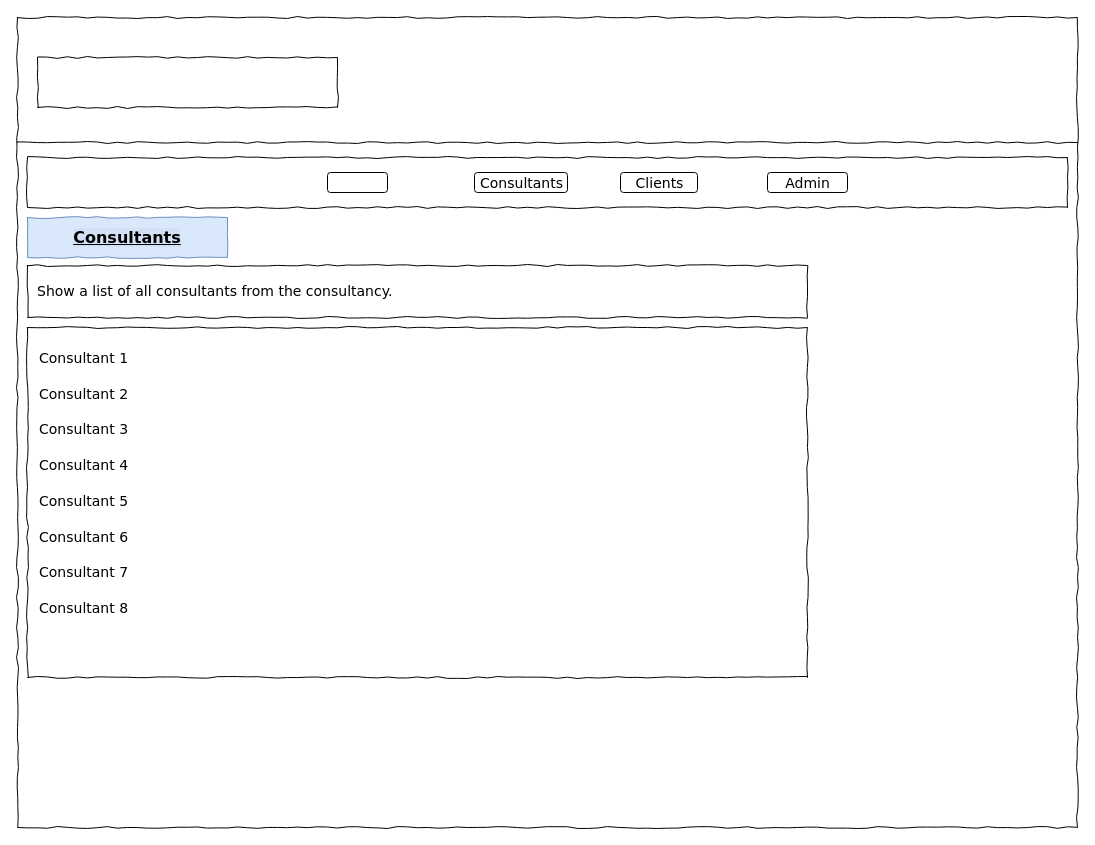
This 1095x845 diagram has some shape labels left out. The box of each missing label's shape, as (x1, y1, x2, y2) in pixels:
Consultancy Name: (36, 56, 338, 108)
Home: (326, 172, 388, 192)
